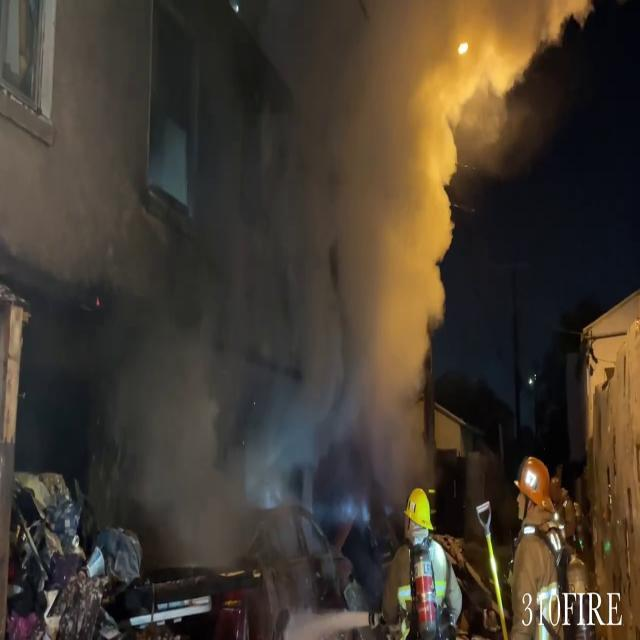Smoke: (0, 0, 482, 503)
